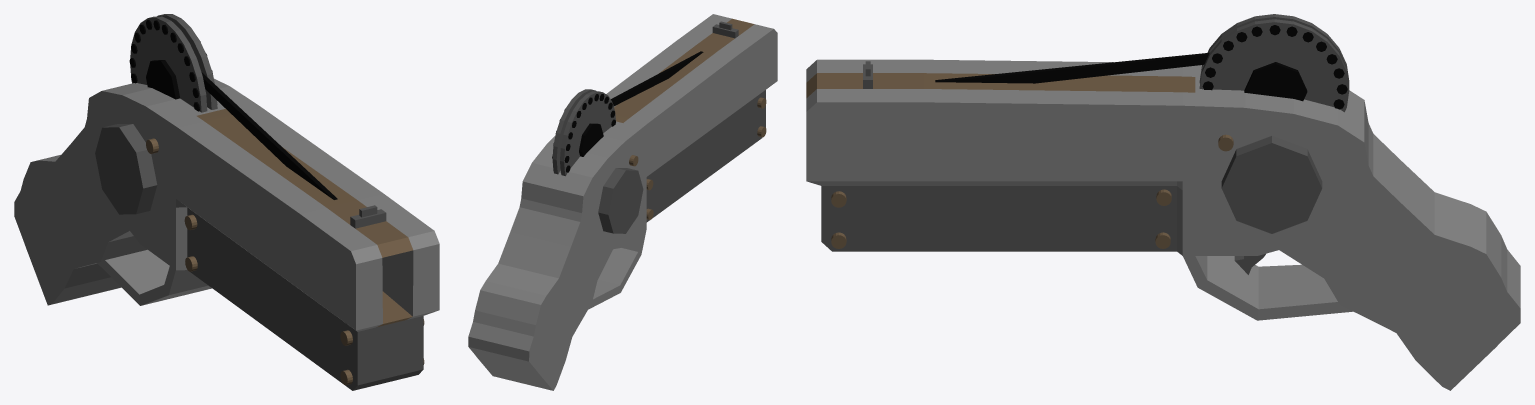
File: grapple_gun.fbx
3 renders of one model, left to right at view 1: azimuth 30°, elevation 25°; view 2: azimuth 150°, elevation 25°; view 3: azimuth 270°, elevation 25°, orthographic. The views are drawn at different scales.
Parts seen in each view (by area): view 1: base, barrel, accent1, bigGear, grappleRing, grappel, mainGear, accent2, miniGears, aimsight; view 2: base, barrel, grappleRing, bigGear, accent1, grappel, mainGear, miniGears, accent2, aimsight; view 3: base, barrel, grappleRing, bigGear, accent1, grappel, mainGear, miniGears, accent2.
Part boxes in pixels (bbox=[...]): base: bbox=[14, 78, 439, 331]; barrel: bbox=[187, 207, 423, 390]; accent1: bbox=[197, 108, 412, 327]; bigGear: bbox=[95, 124, 157, 214]; grappleRing: bbox=[130, 14, 217, 112]; grappel: bbox=[201, 72, 337, 199]; mainGear: bbox=[146, 60, 179, 99]; accent2: bbox=[146, 138, 424, 385]; miniGears: bbox=[129, 20, 212, 111]; aimsight: bbox=[350, 205, 386, 228]; base: bbox=[468, 14, 777, 390]; barrel: bbox=[646, 90, 765, 222]; grappleRing: bbox=[552, 89, 615, 176]; bigGear: bbox=[598, 168, 643, 233]; accent1: bbox=[614, 18, 754, 122]; grappel: bbox=[611, 51, 703, 106]; mainGear: bbox=[579, 123, 603, 156]; miniGears: bbox=[552, 94, 615, 172]; accent2: bbox=[629, 97, 766, 219]; aimsight: bbox=[712, 21, 738, 38]; base: bbox=[806, 59, 1520, 390]; barrel: bbox=[821, 186, 1176, 251]; grappleRing: bbox=[1199, 14, 1349, 112]; bigGear: bbox=[1221, 136, 1322, 233]; accent1: bbox=[806, 73, 1195, 98]; grappel: bbox=[935, 52, 1209, 83]; mainGear: bbox=[1244, 62, 1307, 101]; miniGears: bbox=[1202, 25, 1347, 109]; accent2: bbox=[831, 134, 1233, 248].
Bounding box in the file's own units: 164 × 470 × 866.
